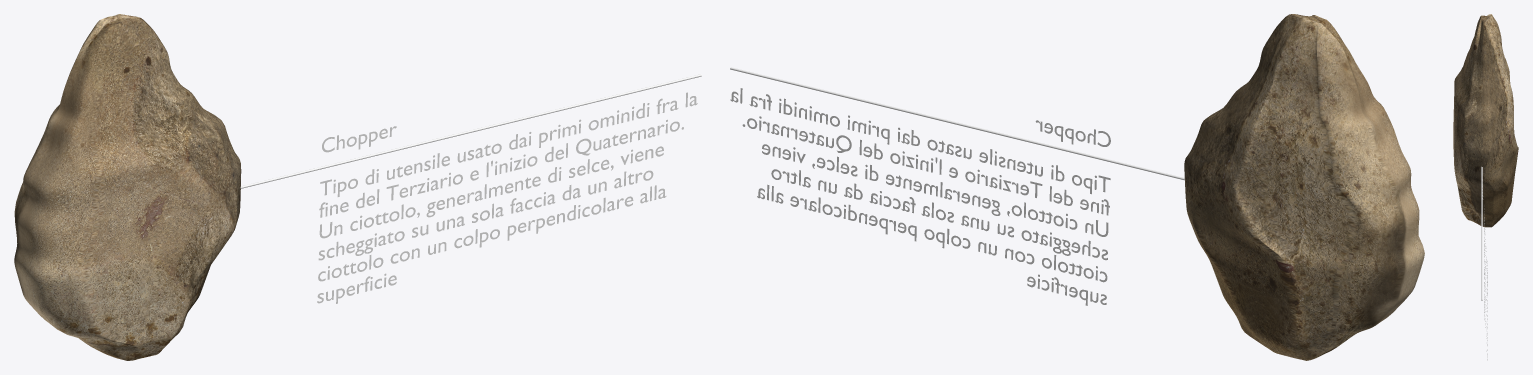
Rendered from Chopper.gltf.
The picture shows the model from 3 angles, left to right: view 1: azimuth 30°, elevation 25°; view 2: azimuth 150°, elevation 25°; view 3: azimuth 270°, elevation 25°; orthographic projection. The views are drawn at different scales.
Visible parts, largest first — view 1: Superficie_di_Suddivisione_1, Text, riga; view 2: Superficie_di_Suddivisione_1, Text, riga; view 3: Superficie_di_Suddivisione_1, riga, Text.
Part boxes in pixels (x1,y1,x2,y2): Superficie_di_Suddivisione_1: (14, 14, 241, 360); Text: (317, 92, 697, 303); riga: (240, 74, 701, 188); Superficie_di_Suddivisione_1: (1184, 14, 1424, 360); Text: (730, 88, 1110, 305); riga: (730, 67, 1184, 180); Superficie_di_Suddivisione_1: (1453, 14, 1518, 227); riga: (1481, 166, 1482, 300); Text: (1482, 186, 1487, 360).
Size of the model in its own units: 6.5 by 3.12 by 0.9166.
2 materials, 1 textured.
